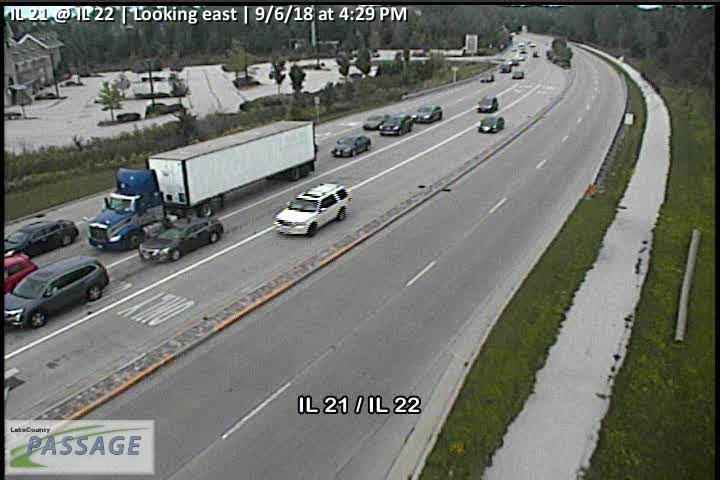SUV: (4, 256, 110, 328), (275, 184, 351, 238), (380, 113, 412, 136), (412, 105, 443, 123), (478, 116, 504, 133), (478, 95, 499, 111)
Sedan: (139, 218, 222, 262), (4, 217, 81, 260), (331, 134, 370, 157), (362, 114, 388, 130)
Truck: (86, 118, 318, 251)
